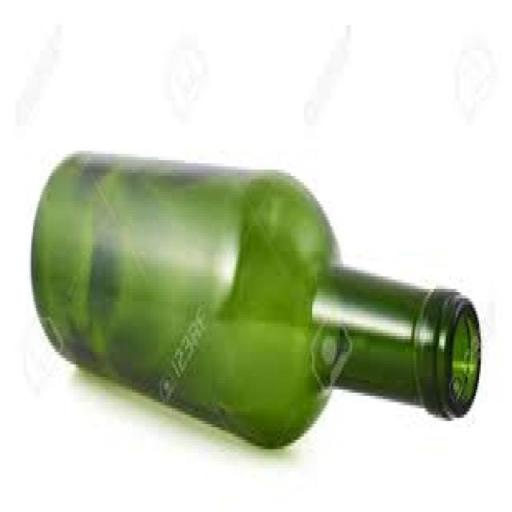glass: (24, 141, 482, 453)
